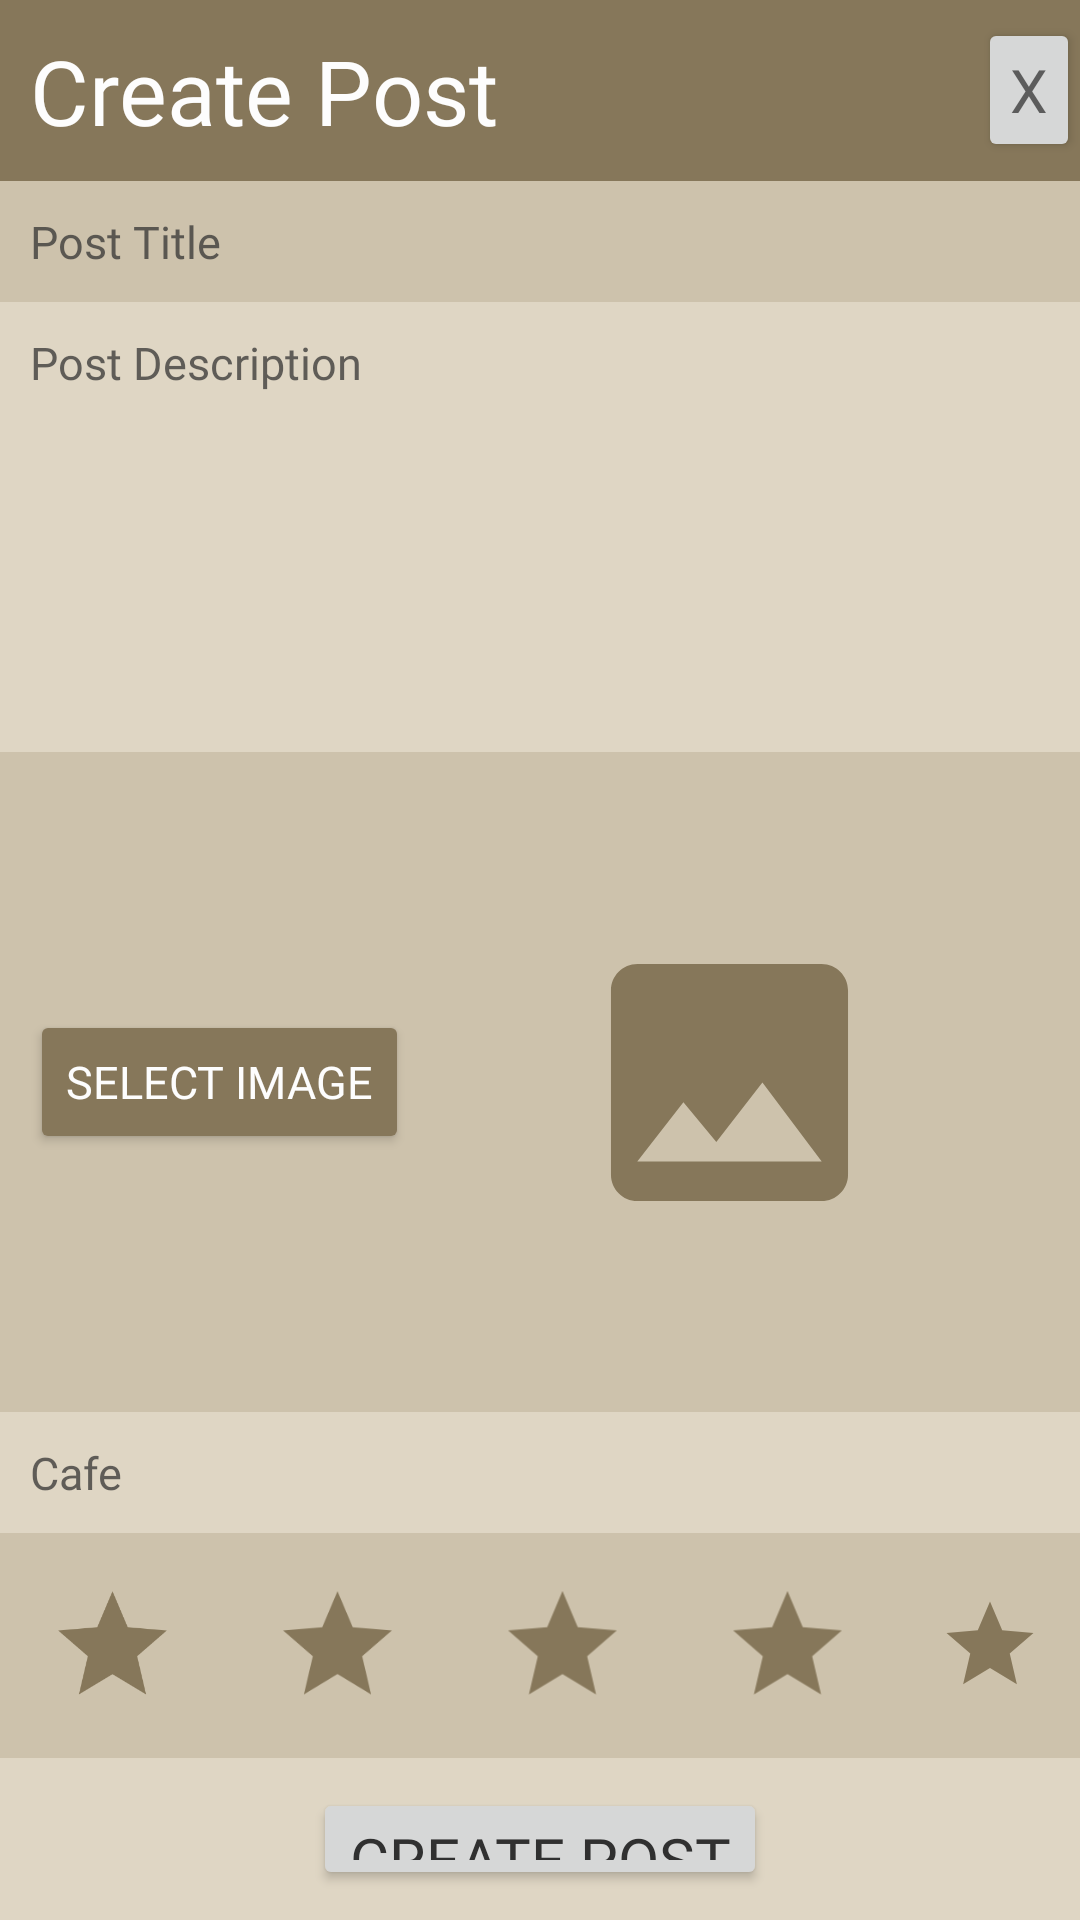

Locate icon controls on the screen. Image size 1080w x 1920h, boxes as bbox=(x1, y1, x2, y2).
Image Preview: bbox=(611, 964, 848, 1201)
star: bbox=(59, 1592, 166, 1694), bbox=(283, 1592, 392, 1694), bbox=(509, 1592, 616, 1694), bbox=(734, 1592, 841, 1694), bbox=(947, 1602, 1033, 1684)
